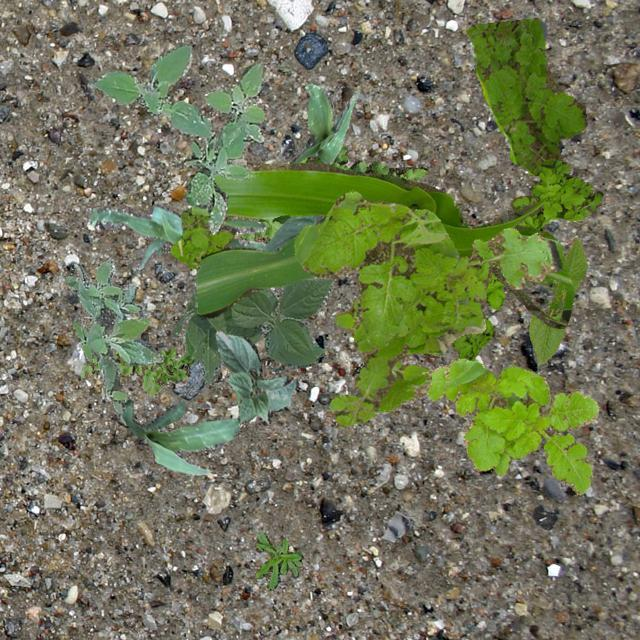crop: (190, 160, 572, 328), (172, 276, 332, 384), (84, 202, 266, 268), (120, 398, 238, 474), (215, 330, 298, 424), (528, 236, 586, 364), (291, 82, 358, 164), (262, 214, 324, 252)
weed: (293, 190, 562, 427), (90, 40, 264, 234), (451, 158, 602, 360), (423, 358, 598, 493), (466, 17, 586, 175), (238, 144, 427, 244), (64, 256, 162, 412), (332, 296, 430, 380), (80, 348, 192, 394), (170, 206, 233, 268), (254, 530, 302, 588)
